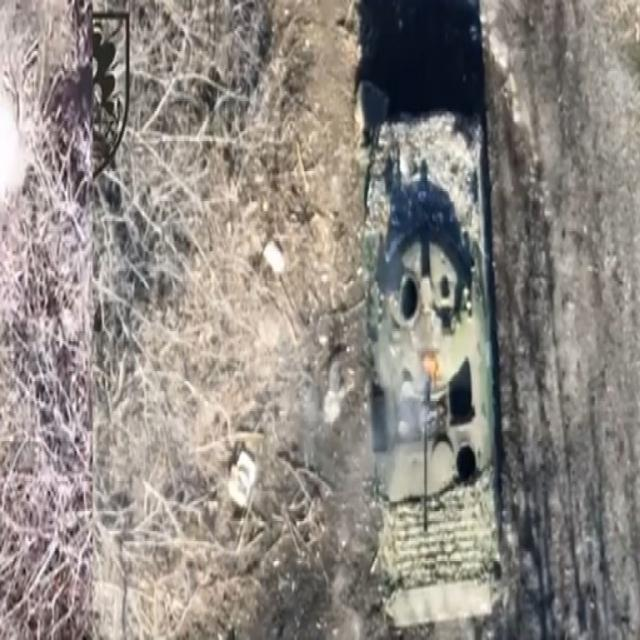APC-IFV: (342, 76, 508, 624)
